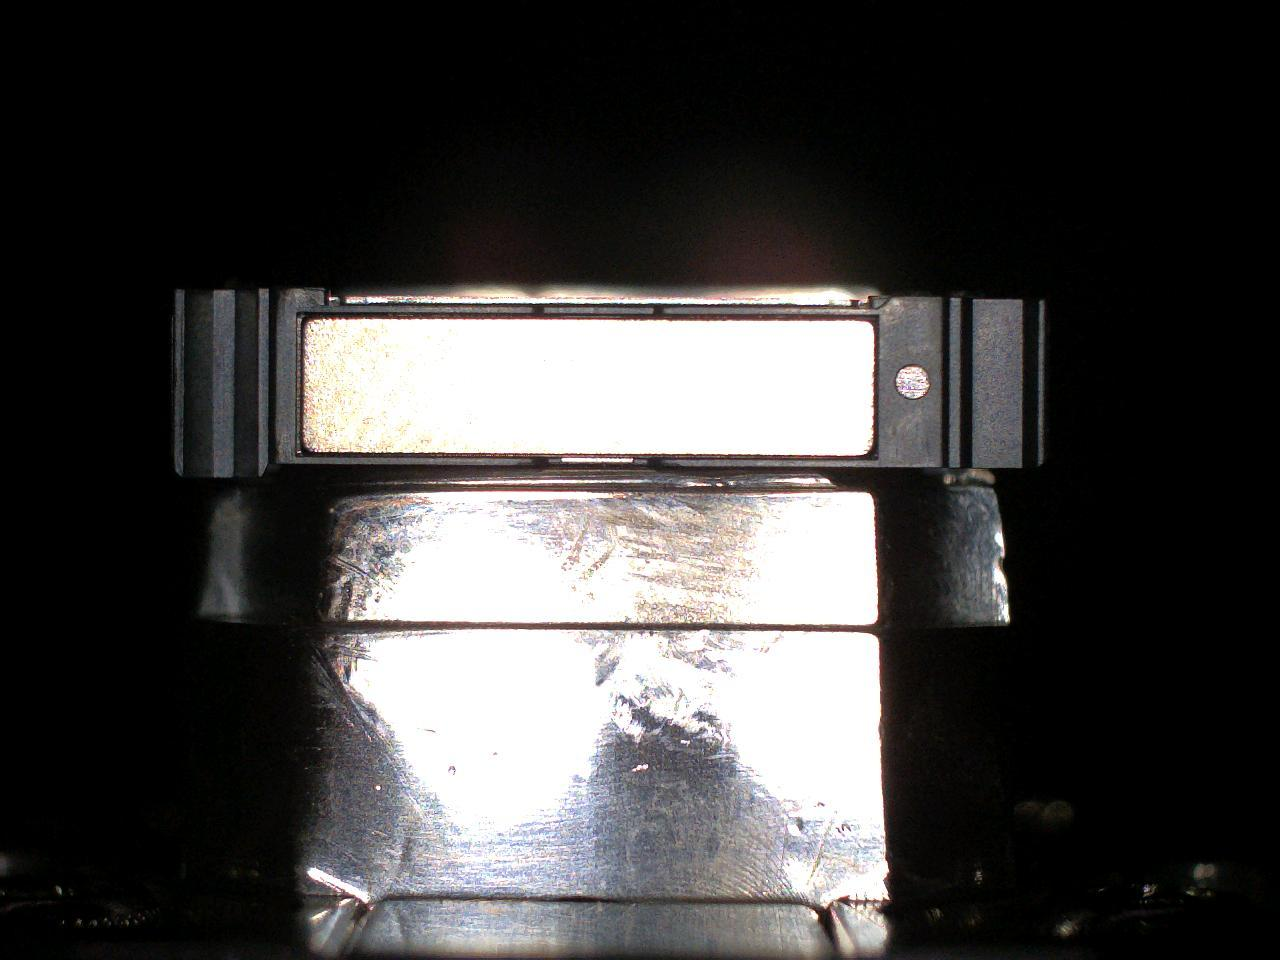frame: (174, 288, 1044, 478), (545, 307, 654, 314)
gap: (664, 313, 879, 321), (298, 313, 533, 319), (302, 452, 533, 458), (662, 454, 879, 460), (544, 314, 653, 320), (548, 454, 648, 458)
magnetic: (302, 319, 874, 456)
